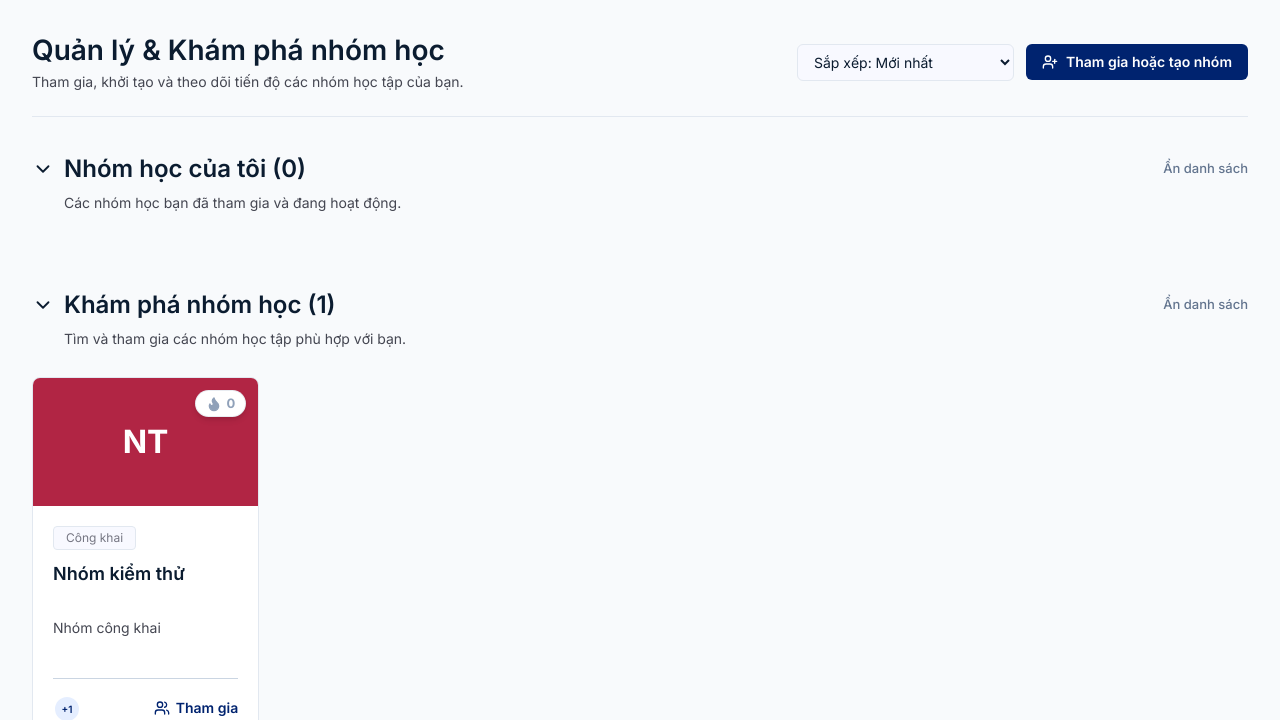
Scenario: StudyGroups membership truth › can rejoin a previously left public group
Click the text "Tham gia" at (196, 709), box [154, 698, 238, 719]
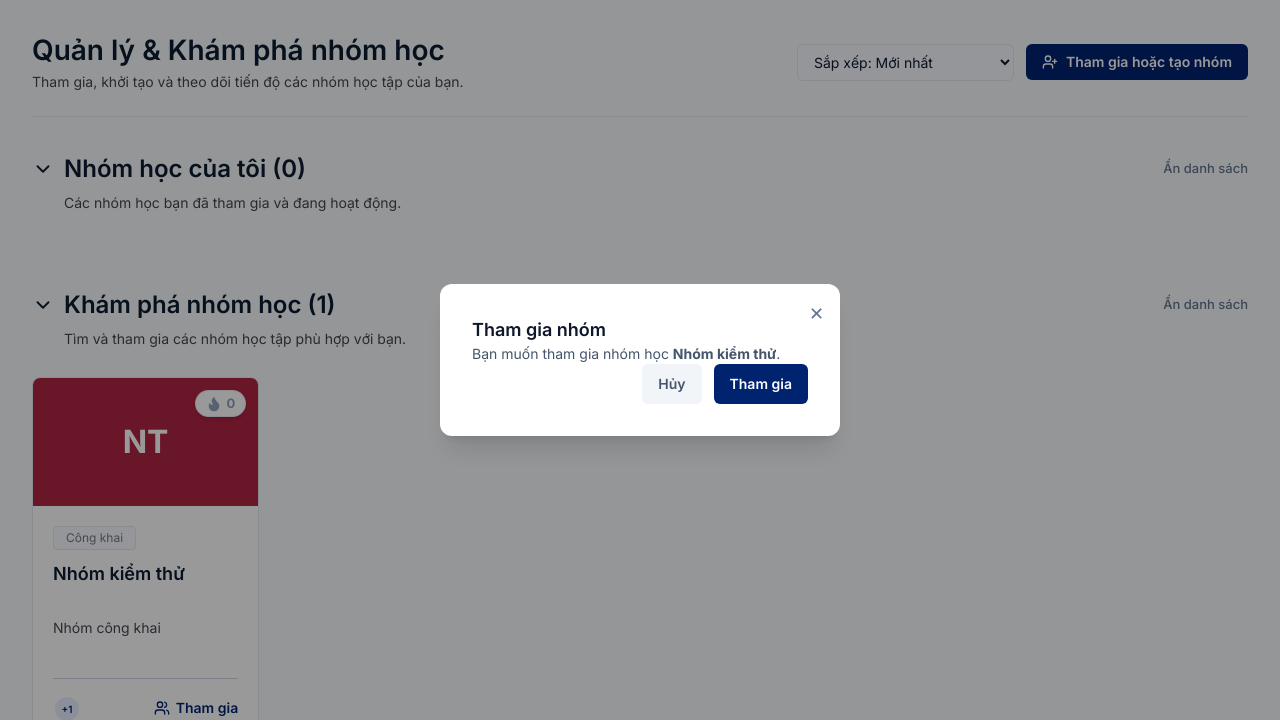
Result: the element "Tham gia nhóm" is shown at [440, 284, 840, 436]
Click the button "Tham gia" at (761, 384), box [714, 364, 808, 404]
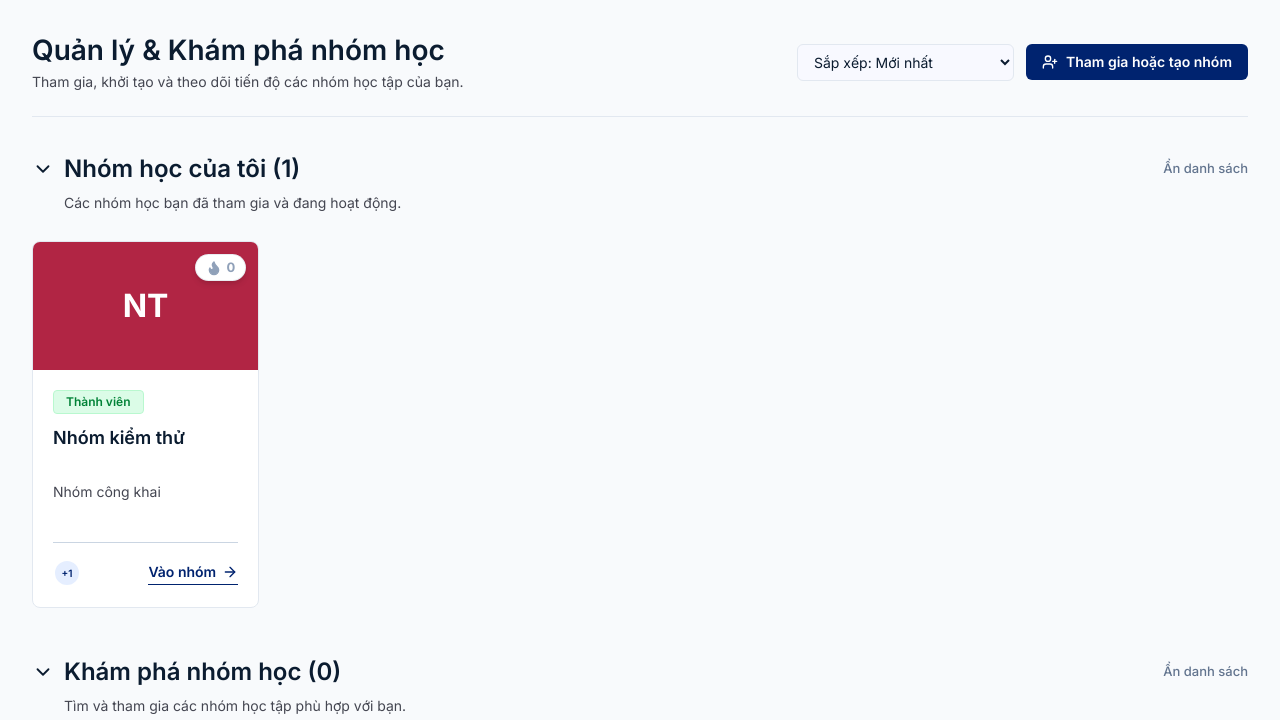
Result: the text "Nhóm học của tôi (1)" is shown at [64, 153, 300, 185]
